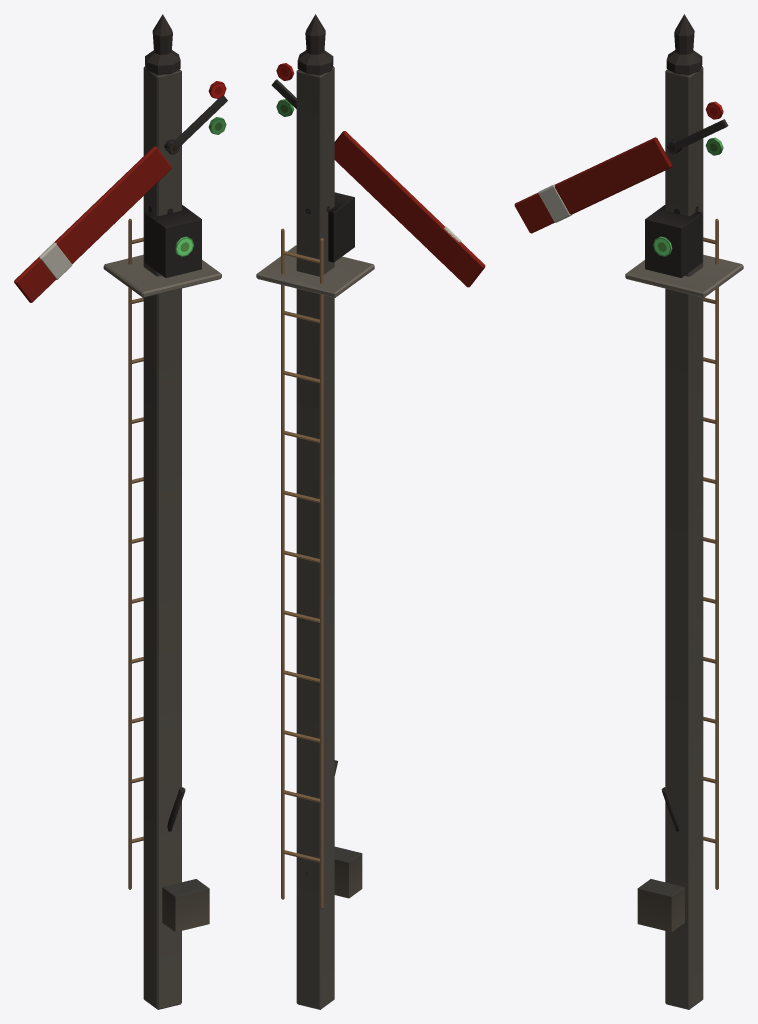
The model's file is semaphore.glb.
3 views of the same model, side by side, from view 1: azimuth 30°, elevation 25°; view 2: azimuth 150°, elevation 25°; view 3: azimuth 330°, elevation 25° (orthographic).
Parts seen in each view (by area): view 1: wood-001, dark-iron-001, wood-arm-002; view 2: wood-001, wood-arm-002, dark-iron-001; view 3: wood-001, dark-iron-001, wood-arm-002.
Part boxes in pixels (x1=…): wood-001: x1=103, y1=14, x2=221, y2=1009; dark-iron-001: x1=144, y1=95, x2=227, y2=932; wood-arm-002: x1=14, y1=146, x2=171, y2=302; wood-001: x1=256, y1=14, x2=374, y2=1009; wood-arm-002: x1=334, y1=131, x2=485, y2=287; dark-iron-001: x1=271, y1=79, x2=362, y2=898; wood-001: x1=625, y1=14, x2=743, y2=1009; dark-iron-001: x1=637, y1=119, x2=728, y2=932; wood-arm-002: x1=514, y1=137, x2=672, y2=233.
Size of the model in its own units: 1.86 by 8.25 by 0.75.
